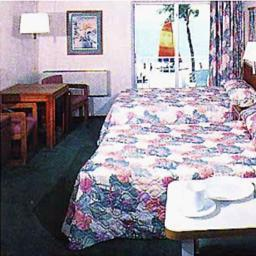Cama: (82, 107, 252, 174), (113, 78, 241, 117)
Puerta: (134, 4, 221, 83)
